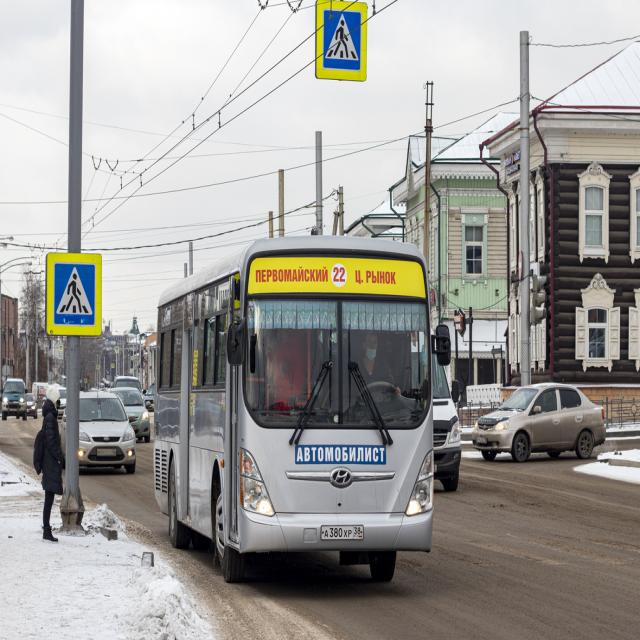number-of-bus: (333, 265, 349, 286)
